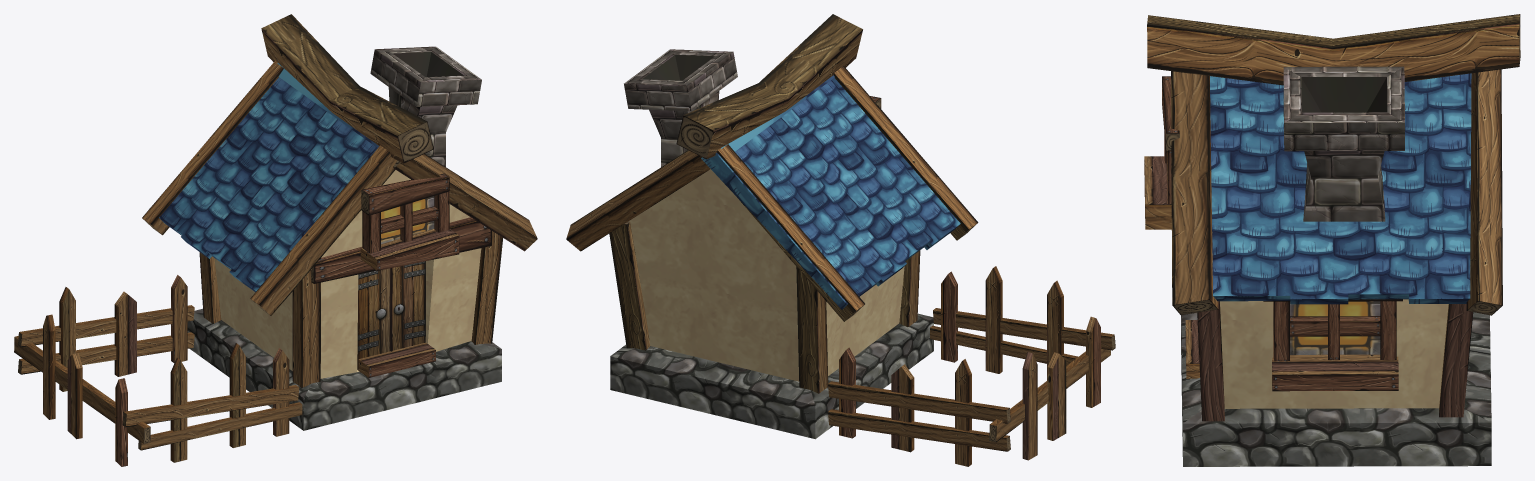
File: farm.FBX
3 renders of one model, left to right at view 1: azimuth 30°, elevation 25°; view 2: azimuth 150°, elevation 25°; view 3: azimuth 270°, elevation 25°, orthographic. The views are drawn at different scales.
Parts seen in each view (by area): view 1: large_wood (×7), roof_farm (×2), wood_fence, wall_farm, bedrock, wood_window (×5), pipe, door, wood_table (×2), window; view 2: wall_farm, large_wood (×7), roof_farm (×2), wood_fence, bedrock, pipe; view 3: roof_farm, large_wood (×5), bedrock, pipe, wall_farm, wood_window (×6), wood_table (×2), window.
Part boxes in pixels (bbox=[...]): large_wood (×7): bbox=[142, 14, 537, 387]; roof_farm (×2): bbox=[149, 63, 379, 291]; wood_fence: bbox=[14, 275, 302, 466]; wall_farm: bbox=[214, 170, 481, 378]; bedrock: bbox=[187, 308, 501, 430]; wood_window (×5): bbox=[360, 173, 459, 270]; pipe: bbox=[370, 46, 481, 166]; door: bbox=[357, 261, 425, 369]; wood_table (×2): bbox=[311, 217, 491, 377]; window: bbox=[381, 196, 434, 244]; wall_farm: bbox=[628, 169, 904, 381]; large_wood (×7): bbox=[566, 14, 978, 393]; roof_farm (×2): bbox=[701, 75, 960, 309]; wood_fence: bbox=[828, 266, 1115, 466]; bedrock: bbox=[610, 313, 933, 439]; pipe: bbox=[624, 49, 737, 166]; roof_farm: bbox=[1210, 73, 1471, 304]; large_wood (×5): bbox=[1147, 14, 1520, 421]; bedrock: bbox=[1181, 312, 1491, 466]; pipe: bbox=[1283, 66, 1404, 221]; wall_farm: bbox=[1220, 299, 1448, 408]; wood_window (×6): bbox=[1144, 76, 1396, 361]; wood_table (×2): bbox=[1185, 320, 1398, 391]; window: bbox=[1290, 301, 1380, 354].
Size of the model in its own units: 67.8 by 39.78 by 45.78.
